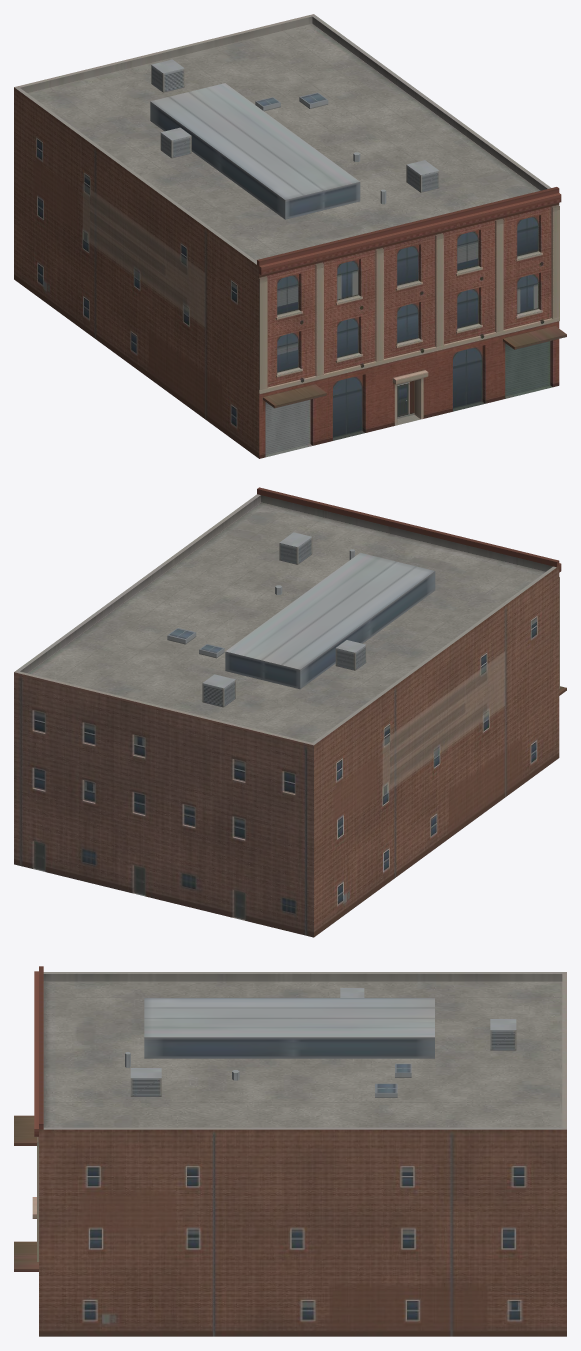
Rendered from sf_warehouse_a.glb.
The picture shows the model from 3 angles, top to bottom: view 1: azimuth 30°, elevation 25°; view 2: azimuth 150°, elevation 25°; view 3: azimuth 270°, elevation 25°; orthographic projection. The views are drawn at different scales.
Visible parts, largest first — view 1: sf_warehouse_a; view 2: sf_warehouse_a; view 3: sf_warehouse_a.
Boxes of the visible parts, x1=… form: sf_warehouse_a: x1=14, y1=14, x2=566, y2=458; sf_warehouse_a: x1=14, y1=487, x2=566, y2=937; sf_warehouse_a: x1=14, y1=966, x2=566, y2=1336.
Bounding box in the file's own units: 24 × 15.65 × 35.6.
1 material, 1 textured.
